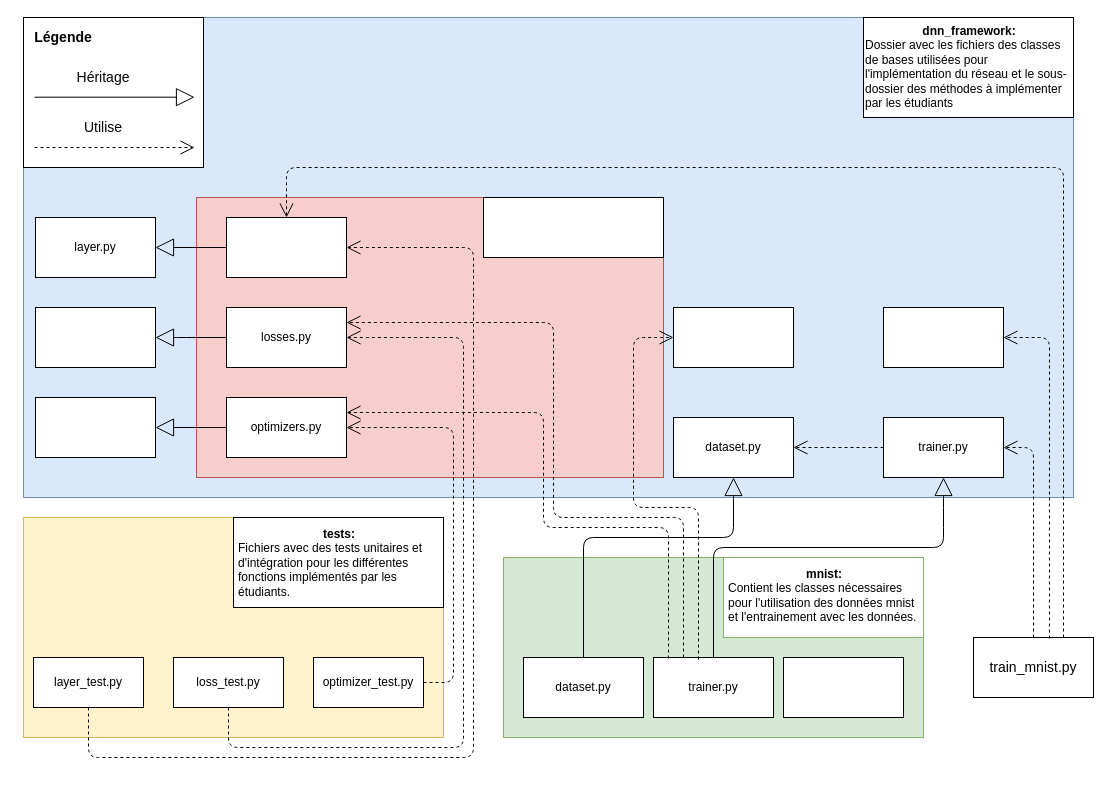
Some shapes in this 1111 by 789 pixel diagram are drawn without their labels. The shapes that lost their labels are listed below. From the top down, each one's centre as x and y in pixels, then its label:
At point 286,247: "layers.py".
At point 573,227: "student: Fichiers avec les fonctions à implémenter par les étudiants.".
At point 95,337: "loss.py".
At point 733,337: "metrics.py".
At point 943,337: "network.py".
At point 95,427: "optimizer.py".
At point 843,687: "fichiers .pkl.gz".
